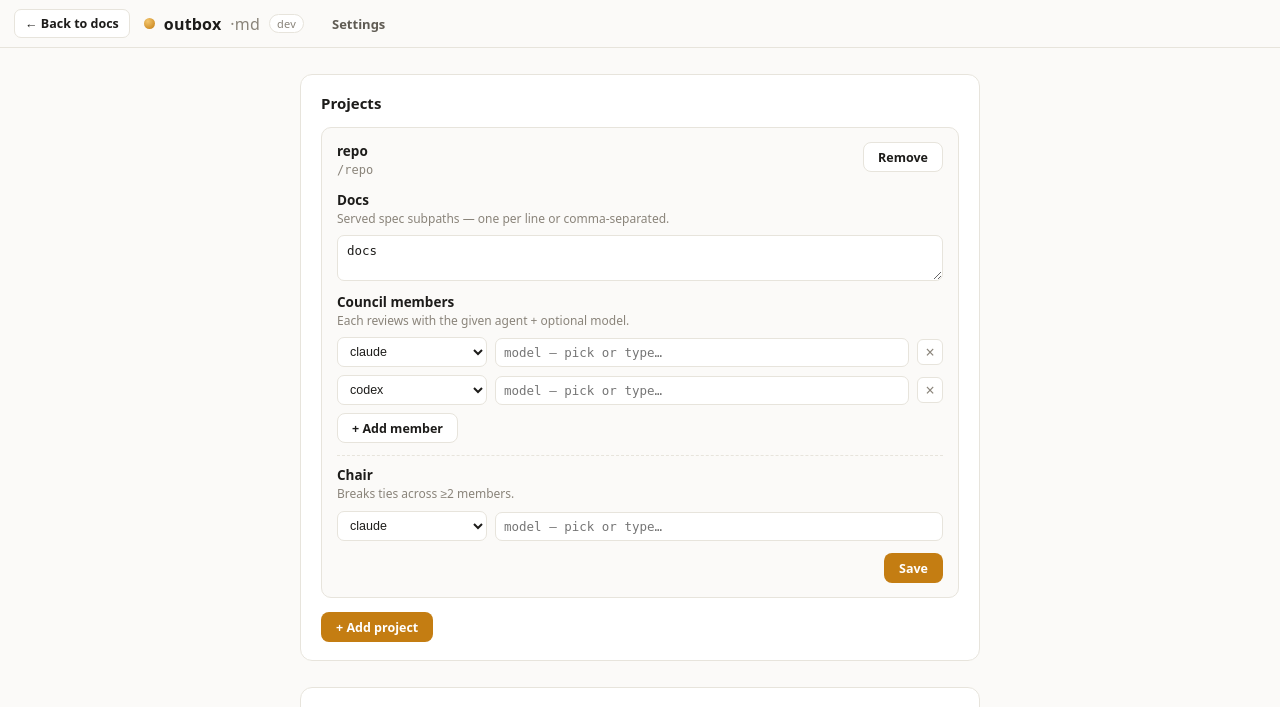
Scenario: SettingsPage › blocks save when the chair is cleared on a 2+ member project
This screenshot has width=1280, height=707.
Select "custom command…" in the dropdown named "Agent preset" below "Breaks ties across ≥2 members." at (412,526), box [337, 511, 487, 541]
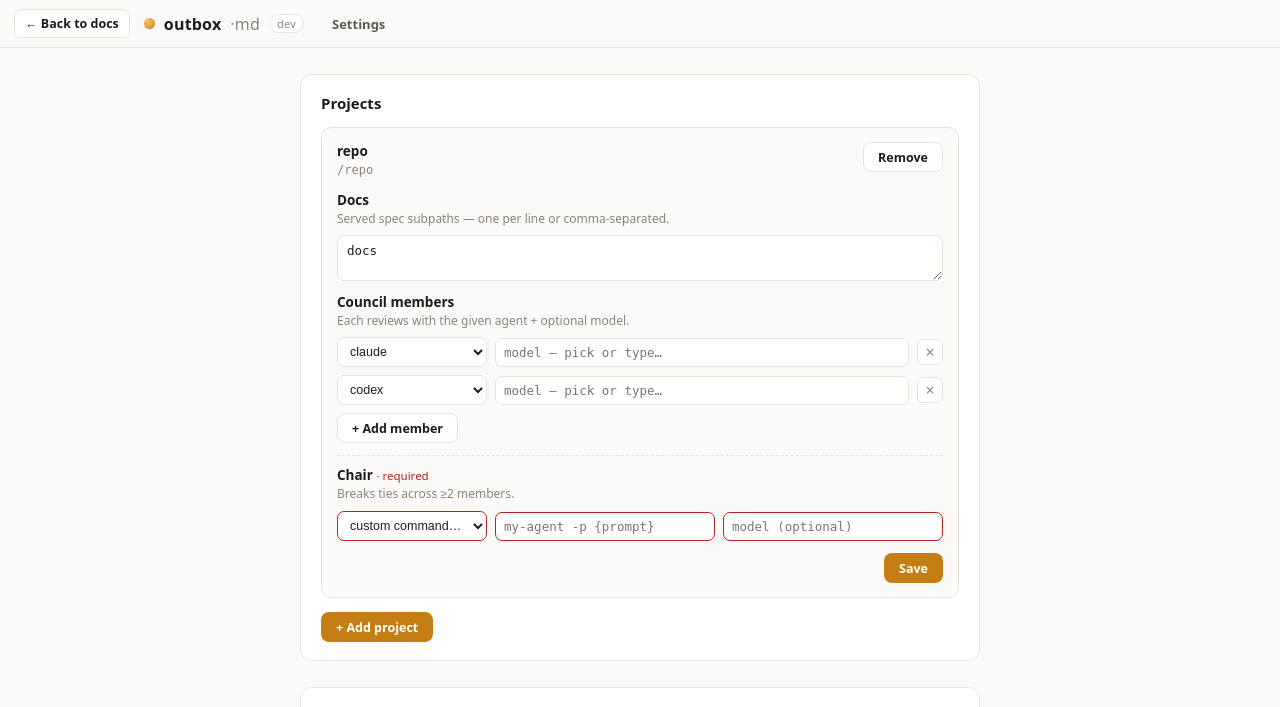
Click the button "Save" at (914,568), box [884, 553, 943, 583]
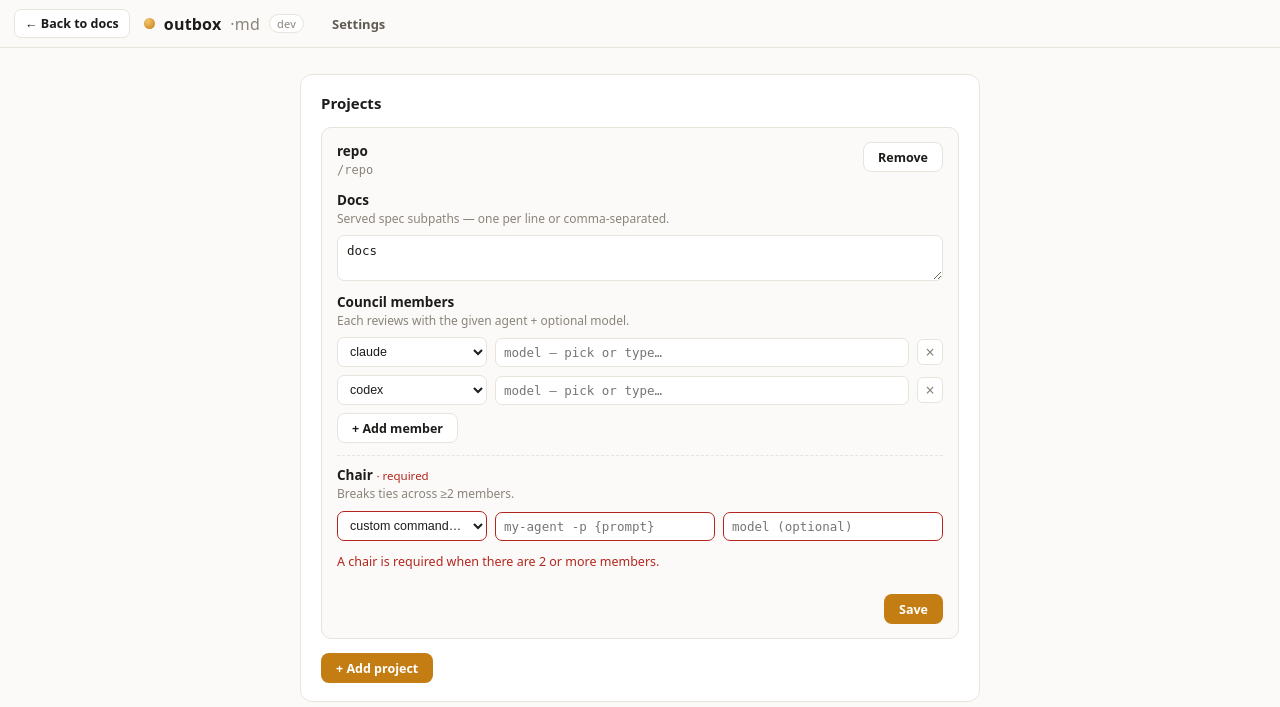
Result: the text "A chair is required when there are 2 or more members." is shown at [337, 553, 659, 570]
